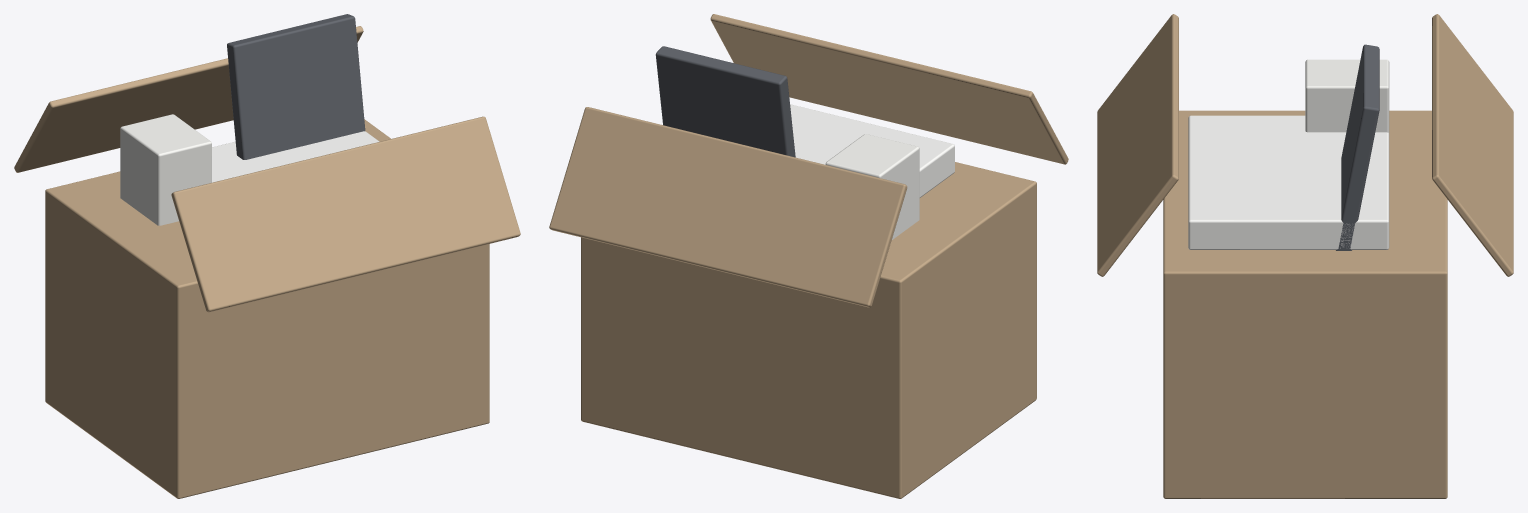
File: SM_MovingBox.fbx
3 views of the same model, side by side, from view 1: azimuth 30°, elevation 25°; view 2: azimuth 150°, elevation 25°; view 3: azimuth 270°, elevation 25° (orthographic). The views are drawn at different scales.
Parts seen in each view (by area): view 1: SM_MovingBox; view 2: SM_MovingBox; view 3: SM_MovingBox.
Part boxes in pixels (x1,y1,x2,y2): SM_MovingBox: (14,14,520,498); SM_MovingBox: (549,14,1068,498); SM_MovingBox: (1097,14,1513,498).
Size of the model in its own units: 0.46 by 0.4895 by 0.4975.
